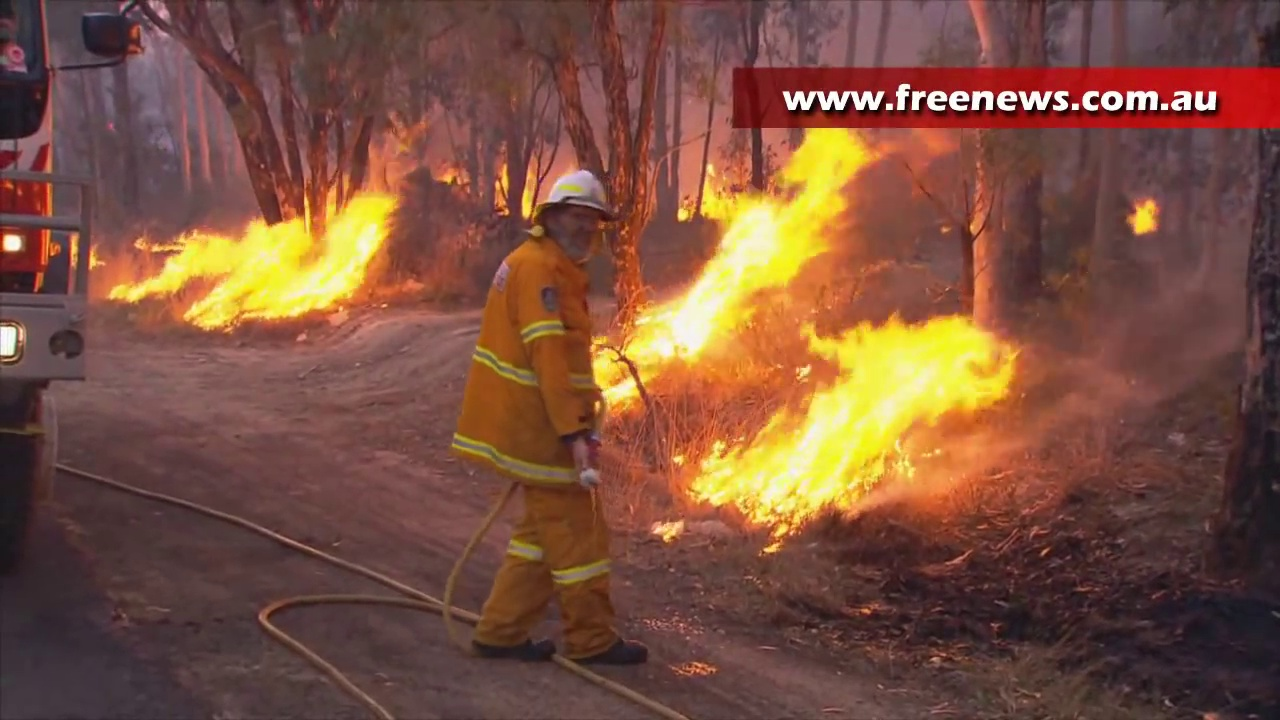fire: (587, 128, 866, 404), (702, 323, 1004, 518), (140, 196, 394, 328), (1130, 199, 1155, 233)
